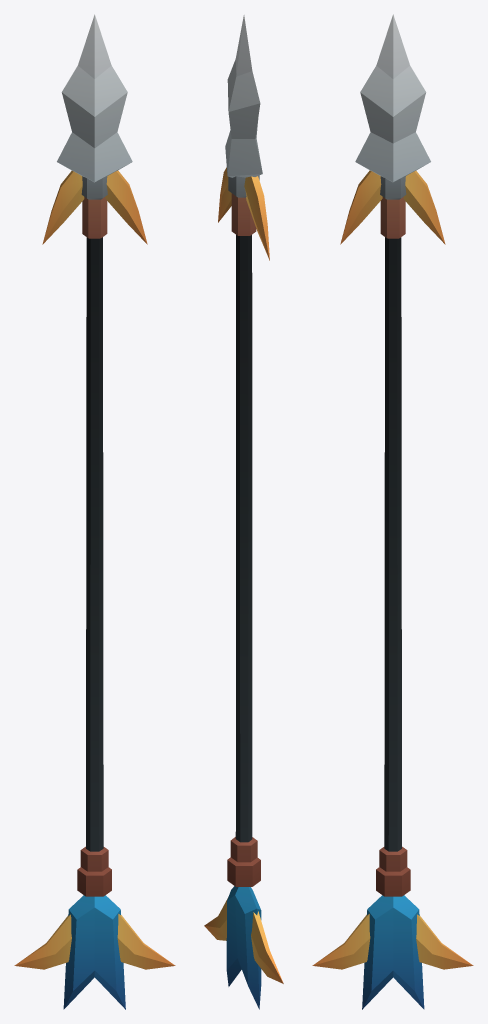
File: Arrow_C_Lv10.fbx
3 renders of one model, left to right at view 1: azimuth 90°, elevation 25°; view 2: azimuth 210°, elevation 25°; view 3: azimuth 270°, elevation 25°, orthographic.
Parts seen in each view (by area): view 1: Arrow_C_Lv10; view 2: Arrow_C_Lv10; view 3: Arrow_C_Lv10.
Part boxes in pixels (x1=…): Arrow_C_Lv10: x1=14, y1=14, x2=175, y2=1009; Arrow_C_Lv10: x1=204, y1=15, x2=283, y2=1009; Arrow_C_Lv10: x1=312, y1=14, x2=473, y2=1009.
Size of the model in its own units: 5.27 by 149 by 21.95.
